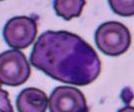E: (30, 29, 100, 84)
